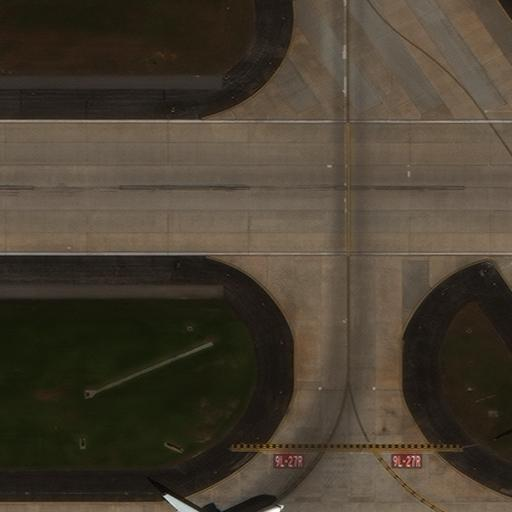Large Civil Transport: (162, 493, 284, 512)
